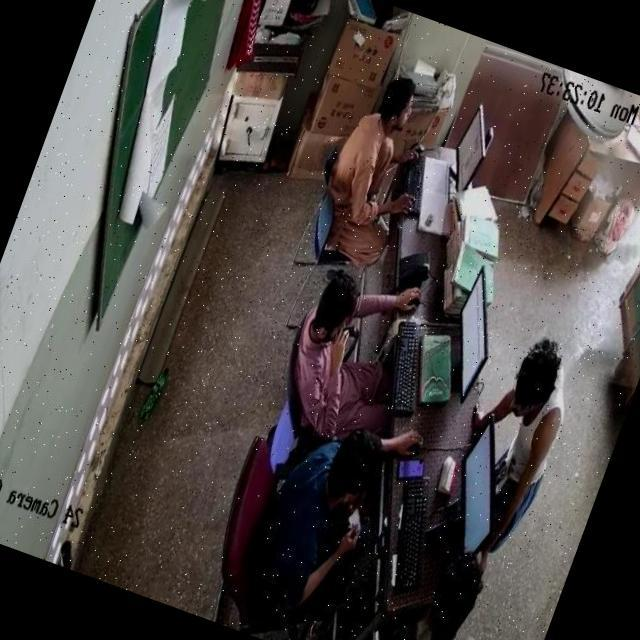person: (243, 413, 402, 622), (264, 256, 416, 442), (301, 77, 424, 265), (472, 336, 588, 528), (388, 549, 499, 640)
